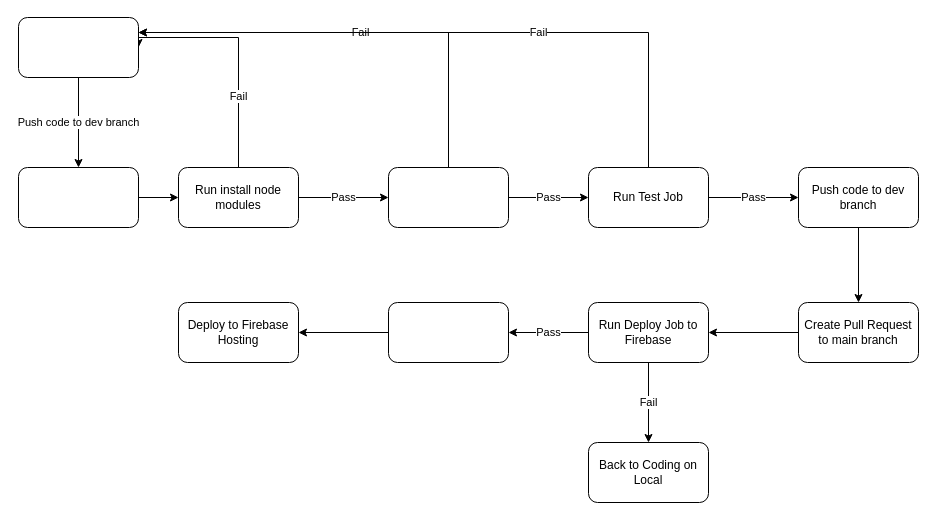
Image size: 936x520. Some labels were removed from this diagram. Here are the shapes that lost their labels. From the top down, the centre of each, then its label:
point (78, 47): Code and Use Linter and Jest via npm scripts on local
point (78, 197): Start CI Workflow
point (448, 197): Run ESLint Airbnb Linter
point (448, 332): Merge branch to main
